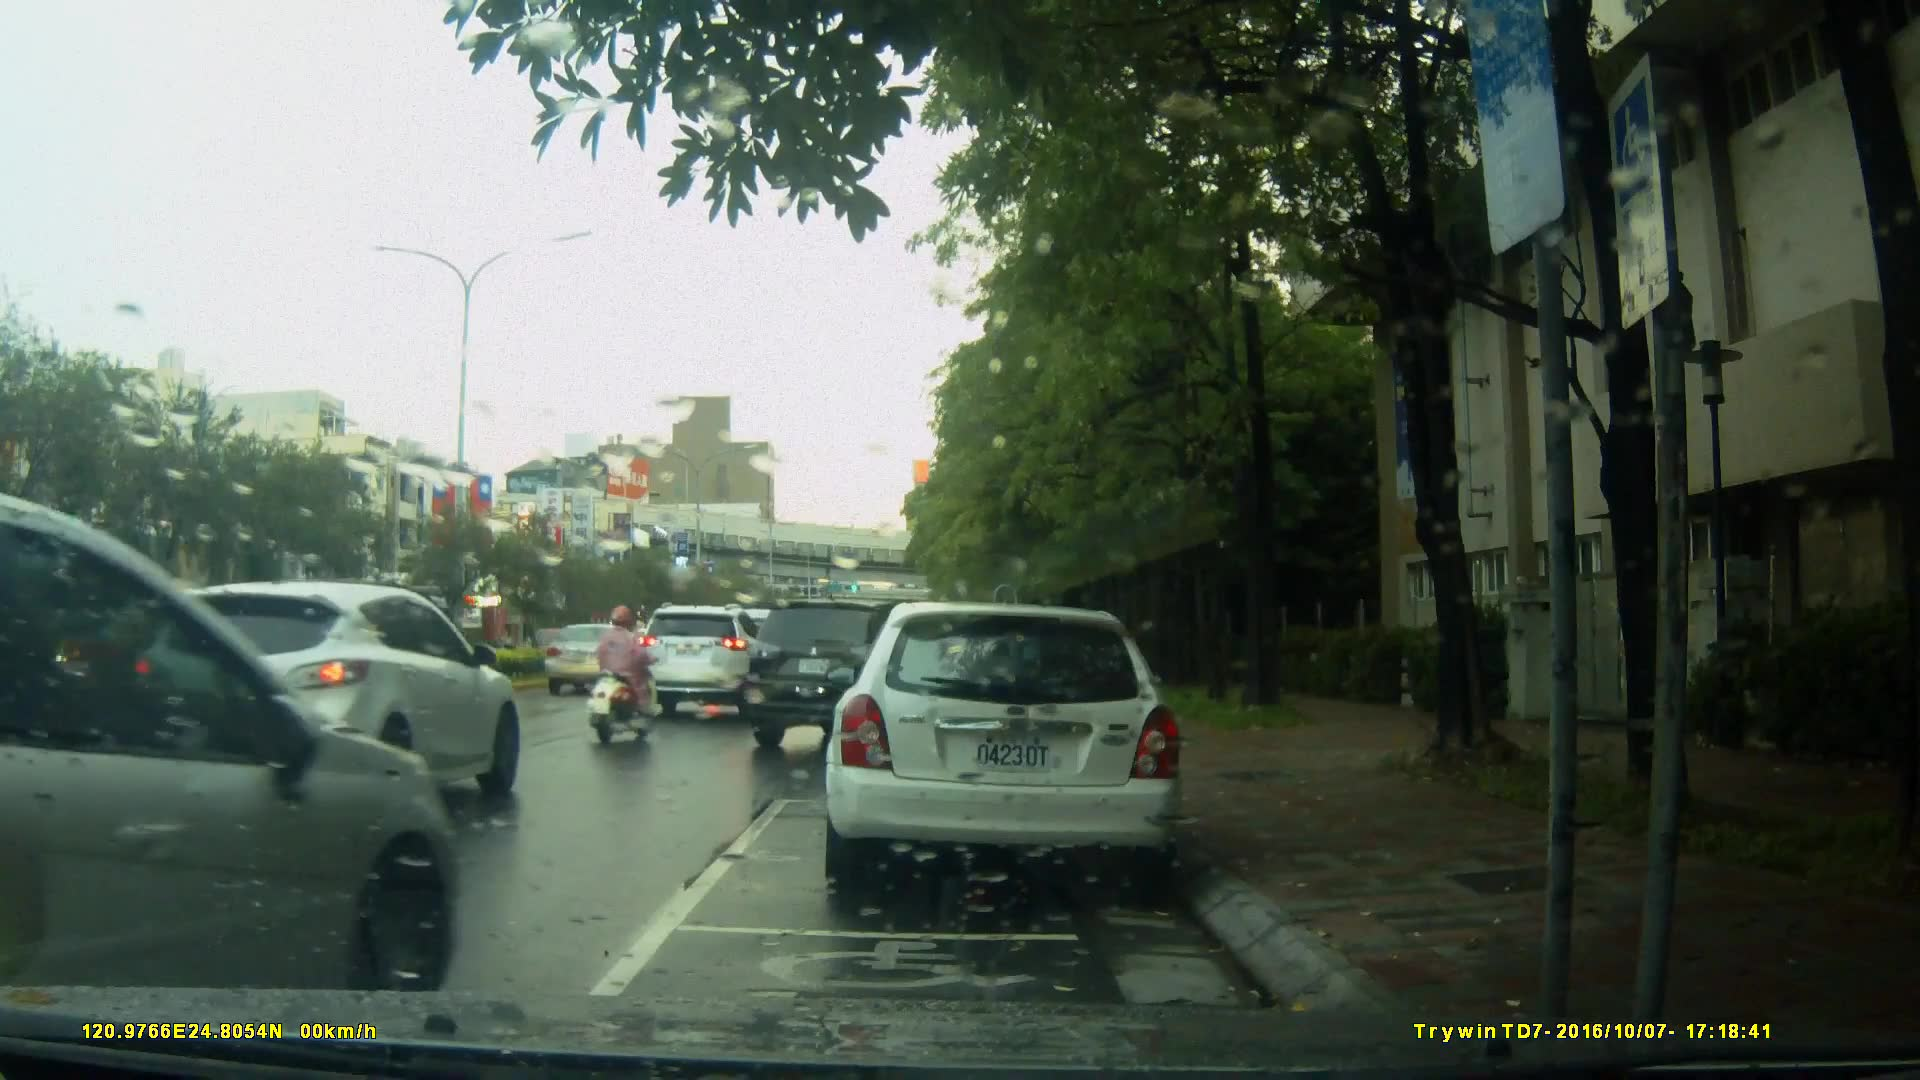rider: (591, 603, 665, 751)
vehicle: (1, 490, 468, 992), (820, 602, 1188, 898), (123, 579, 524, 820), (742, 598, 975, 756), (632, 605, 777, 722), (542, 621, 646, 697)
